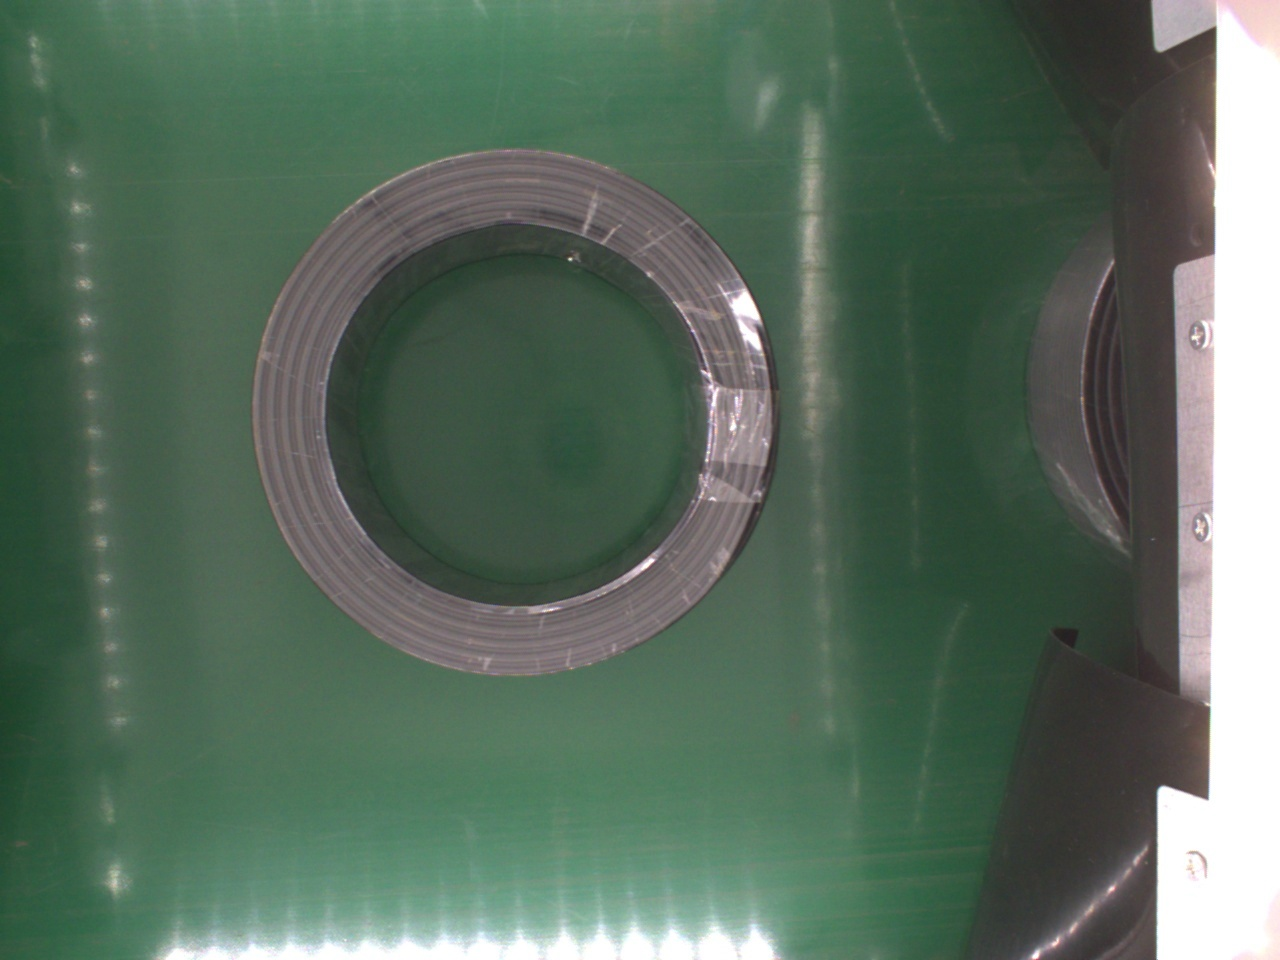black: (248, 150, 777, 679), (1029, 235, 1133, 561)
